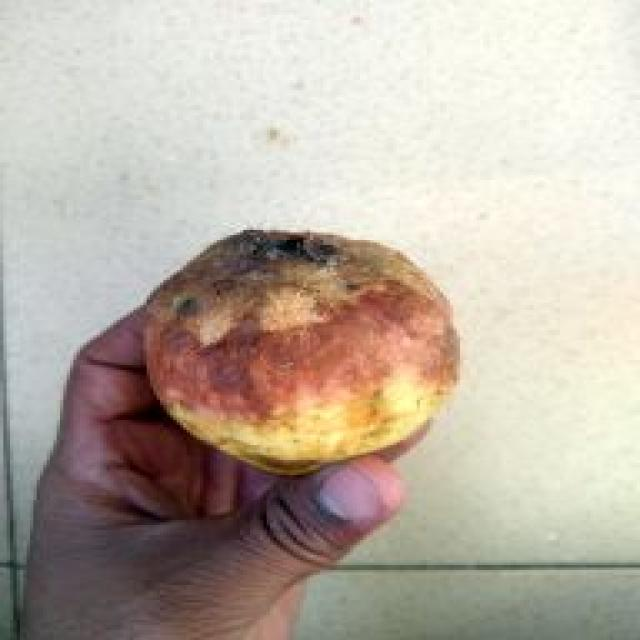Bad_Guava: (147, 230, 458, 474)
